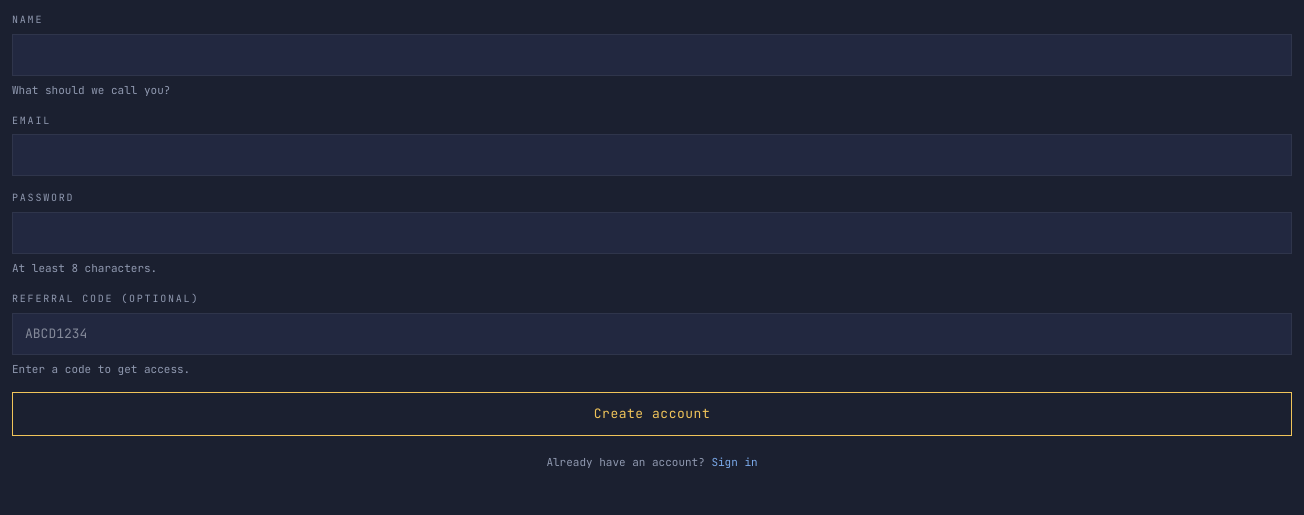
SignUpForm › surfaces a server error inline
Type "Ada Lovelace" into the field labelled "Name" at (652, 55), box [12,34,1292,76]
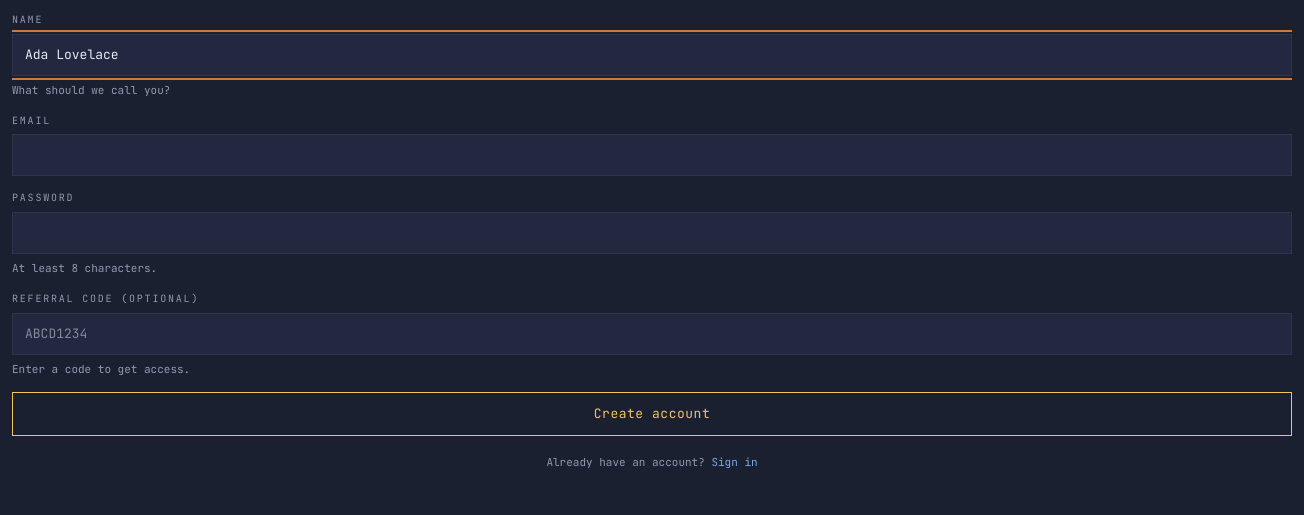
Type "a@b.c" into the field labelled "Email" at (652, 155), box [12,134,1292,176]
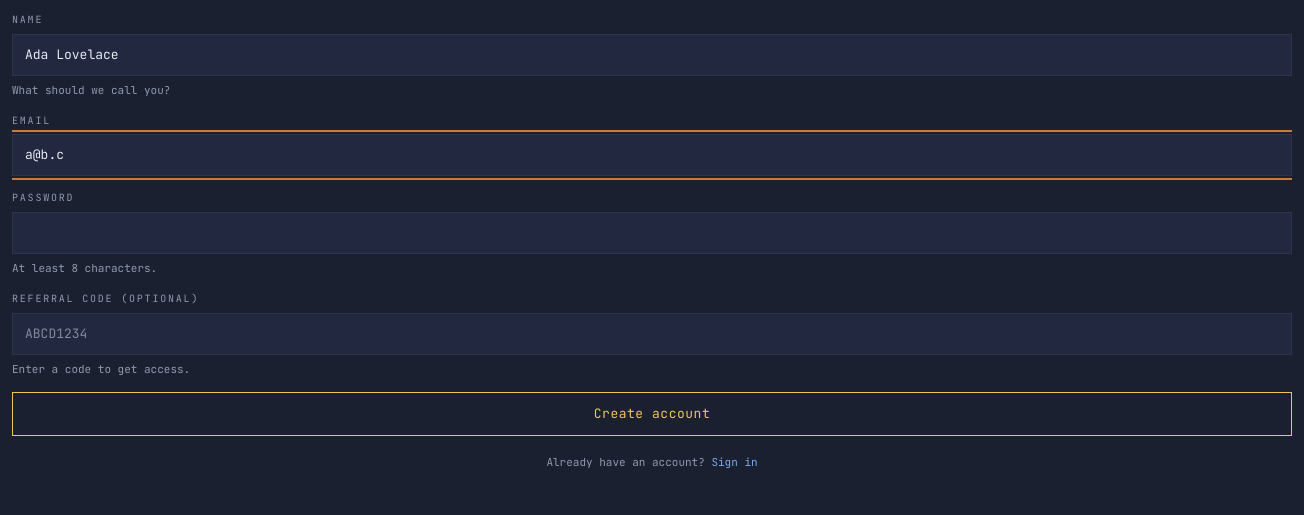
Type "longenough" into the password field labelled "Password" at (652, 233), box [12,212,1292,254]
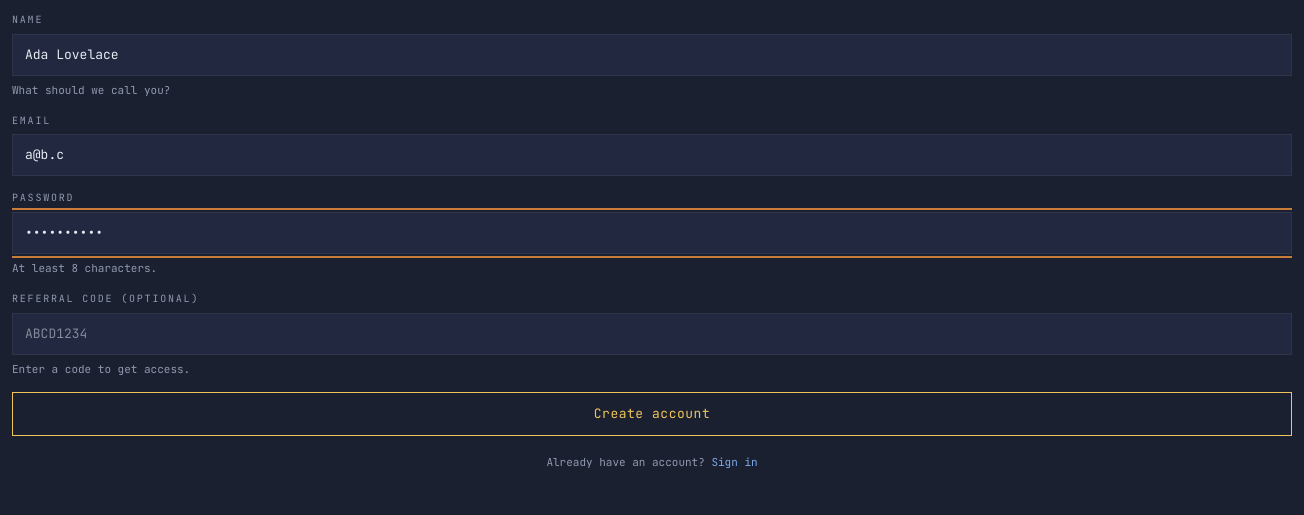
Click the button "Create account" at (652, 414), box [12,392,1292,436]
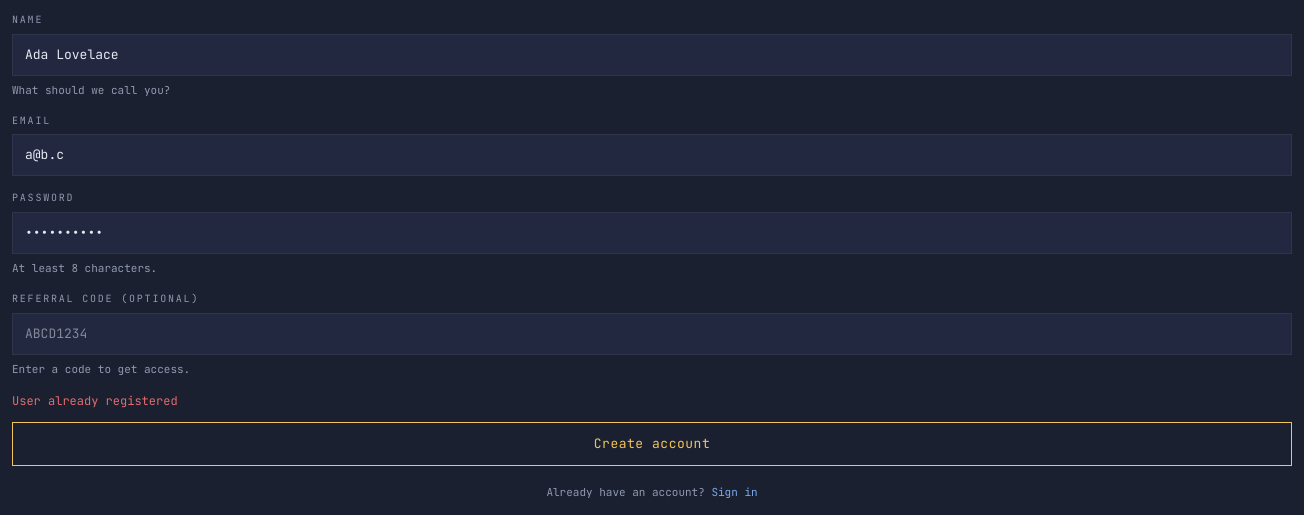
Expected: the message shows "already registered", [12,393,178,409]
